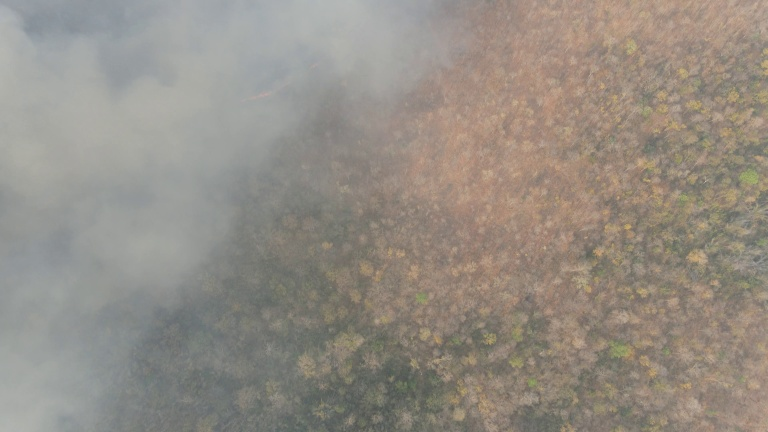fire: (232, 58, 335, 102)
smoke: (3, 1, 406, 427)
